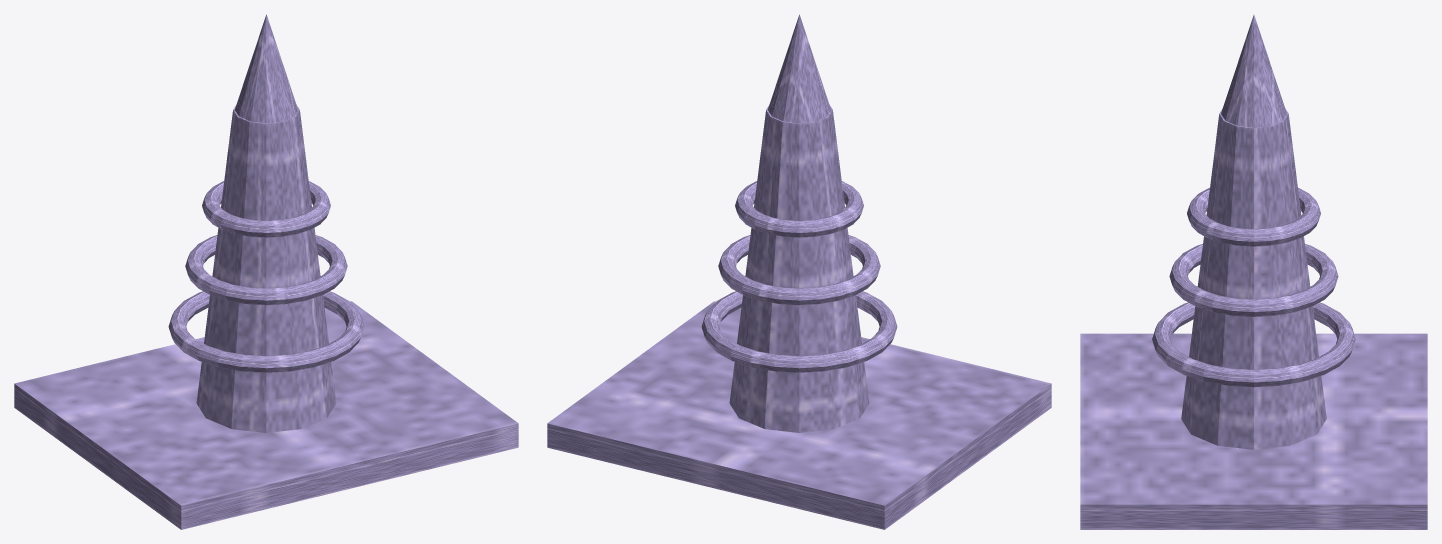
The model's file is thunder_obelisk_00.glb.
The picture shows the model from 3 angles, left to right: view 1: azimuth 30°, elevation 25°; view 2: azimuth 150°, elevation 25°; view 3: azimuth 270°, elevation 25°; orthographic projection. The views are drawn at different scales.
Visible parts, largest first — view 1: Foundation, ThunderPillar, Conductor, Conductor.001, LightningTip, Conductor.002; view 2: Foundation, ThunderPillar, Conductor, Conductor.001, LightningTip, Conductor.002; view 3: Foundation, ThunderPillar, Conductor, Conductor.001, LightningTip, Conductor.002.
Part boxes in pixels (x1,y1,x2,y2): Foundation: [14, 301, 518, 529]; ThunderPillar: [196, 105, 336, 432]; Conductor: [168, 291, 364, 372]; Conductor.001: [185, 235, 347, 305]; LightningTip: [235, 14, 297, 123]; Conductor.002: [202, 181, 330, 237]; Foundation: [547, 301, 1051, 529]; ThunderPillar: [729, 105, 869, 432]; Conductor: [701, 291, 897, 372]; Conductor.001: [718, 235, 880, 305]; LightningTip: [768, 14, 830, 123]; Conductor.002: [735, 181, 863, 237]; Foundation: [1080, 333, 1427, 529]; ThunderPillar: [1181, 109, 1326, 449]; Conductor: [1152, 302, 1355, 387]; Conductor.001: [1169, 244, 1338, 316]; LightningTip: [1221, 15, 1286, 127]; Conductor.002: [1187, 188, 1320, 246].
Bounding box in the file's own units: 3.5 × 4.1 × 3.
1 material, 1 textured.
